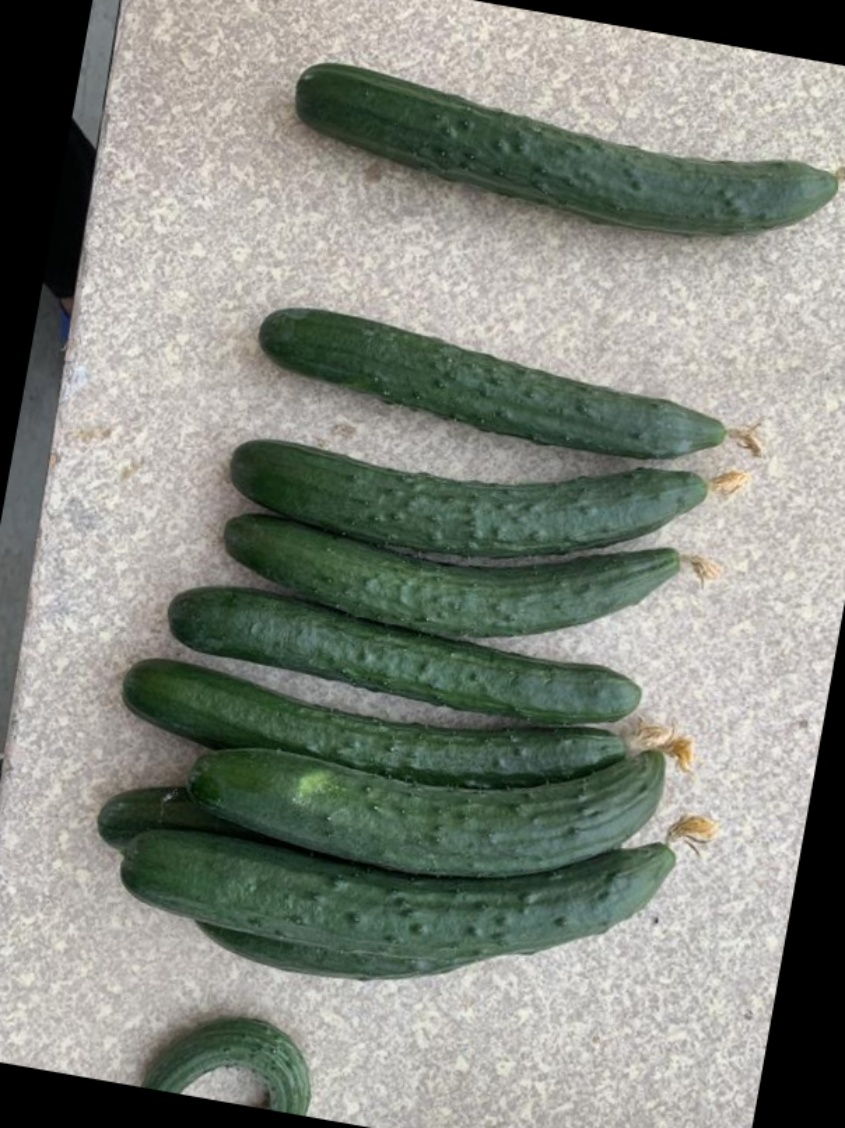mature: (119, 829, 691, 949), (127, 661, 633, 776)
